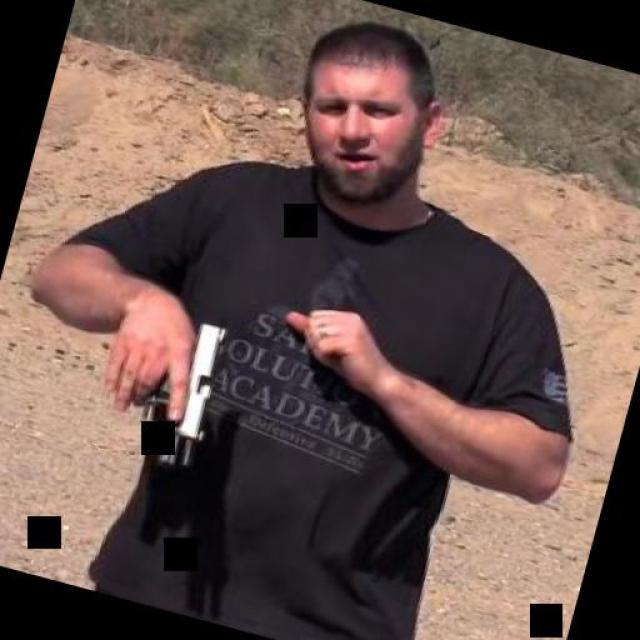gun: (86, 298, 232, 468)
